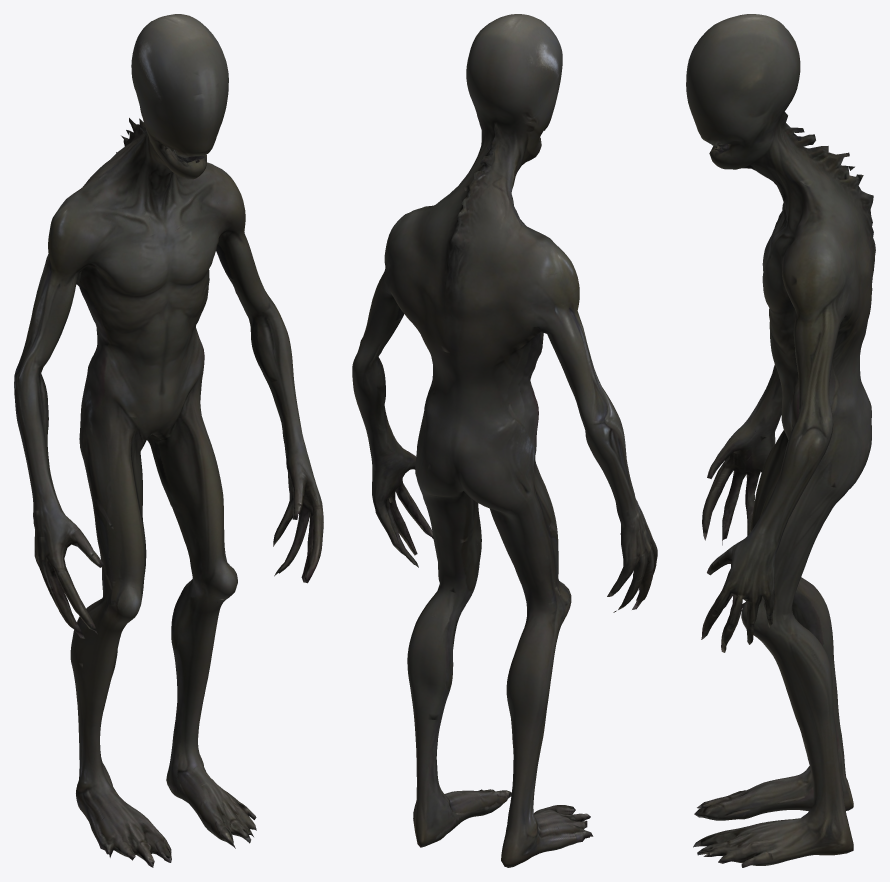
Rendered from black_horror_alien_humanoid.glb.
3 views of the same model, side by side, from view 1: azimuth 30°, elevation 25°; view 2: azimuth 150°, elevation 25°; view 3: azimuth 270°, elevation 25° (orthographic).
Visible parts, largest first — view 1: Object_4; view 2: Object_4; view 3: Object_4.
Part boxes in pixels (bbox=[...]): Object_4: bbox=[14, 14, 323, 867]; Object_4: bbox=[352, 14, 657, 867]; Object_4: bbox=[686, 14, 875, 867].
Size of the model in its own units: 0.7059 by 2 by 0.4214.
Materials: 1 (1 with a texture image).
